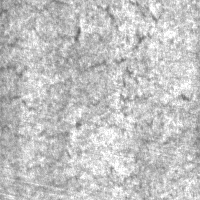crazing: (69, 0, 169, 87)
